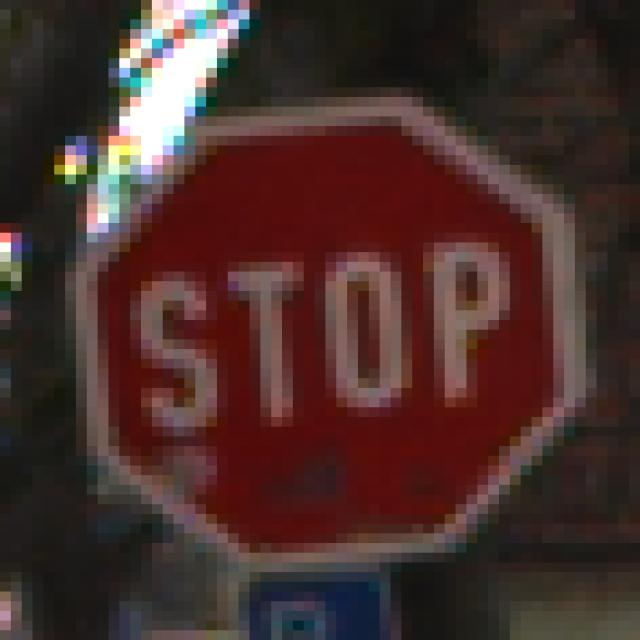STOP: (55, 59, 587, 583)
